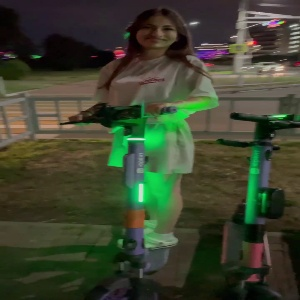human on a scooter: (58, 5, 222, 300)
